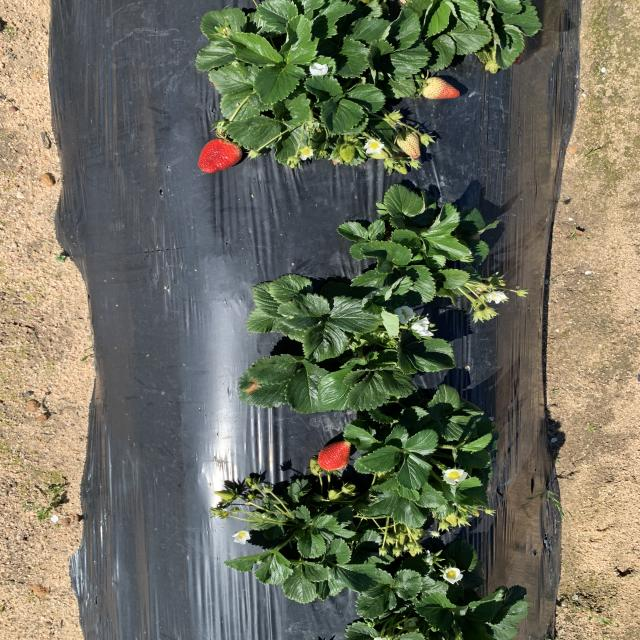unripe: (195, 135, 243, 173), (317, 439, 355, 470)
